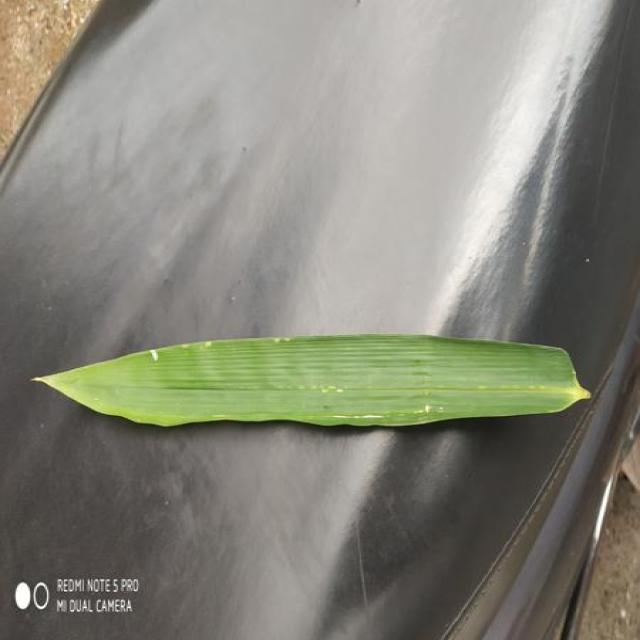Bamboo: (33, 334, 590, 426)
